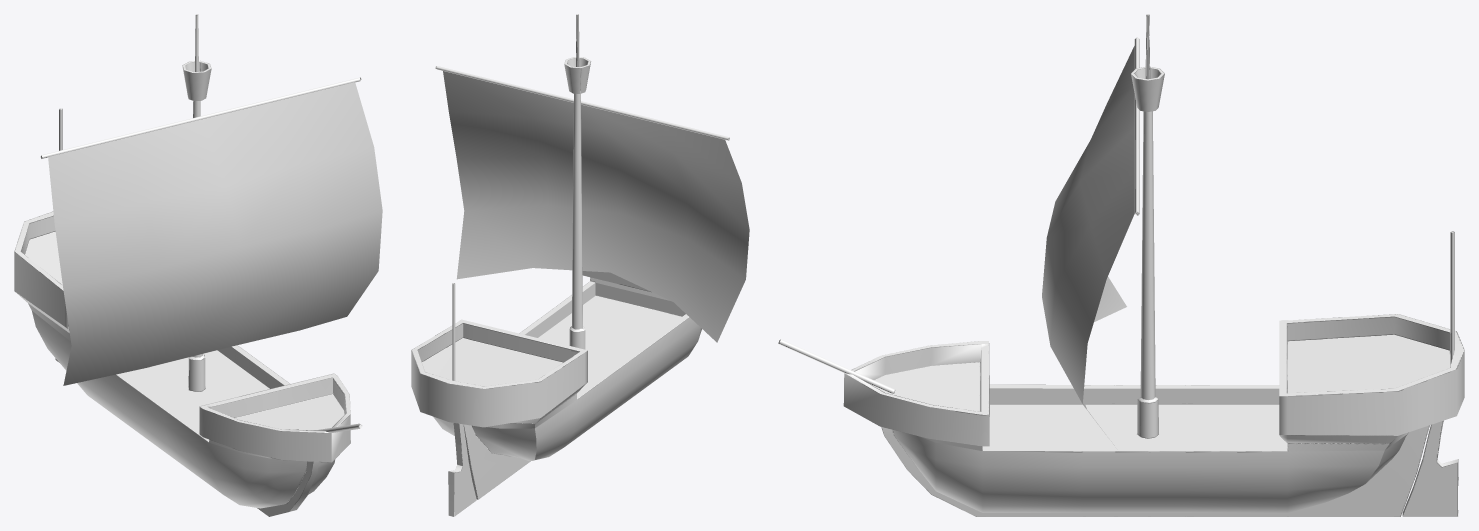
Rendered from Ship.FBX.
3 renders of one model, left to right at view 1: azimuth 30°, elevation 25°; view 2: azimuth 150°, elevation 25°; view 3: azimuth 270°, elevation 25°, orthographic. The views are drawn at different scales.
Parts seen in each view (by area): view 1: Plane001, Cylinder001, Cylinder003; view 2: Plane001, Cylinder001, Box001, Cylinder003, Cylinder004; view 3: Cylinder001, Plane001, Box001, Cylinder003.
Boxes of the visible parts, <box> form: Plane001: <box>48,82,382,385</box>; Cylinder001: <box>14,14,350,516</box>; Cylinder003: <box>40,77,361,158</box>; Plane001: <box>443,71,749,342</box>; Cylinder001: <box>411,14,701,499</box>; Box001: <box>448,423,476,516</box>; Cylinder003: <box>435,66,729,140</box>; Cylinder004: <box>452,283,455,380</box>; Cylinder001: <box>843,14,1464,516</box>; Plane001: <box>1042,46,1134,445</box>; Box001: <box>1402,420,1458,516</box>; Cylinder003: <box>1134,37,1139,215</box>.
Bounding box in the file's own units: 210 × 280 × 348.
2 materials, 1 textured.
